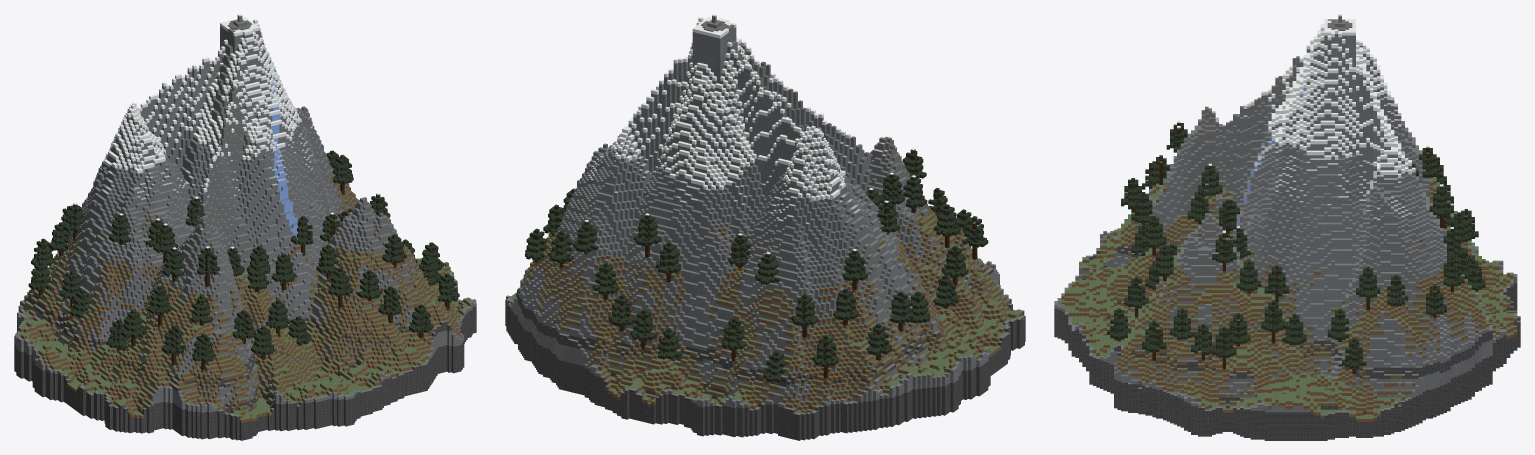
Rendered from shandian.glb.
The picture shows the model from 3 angles, left to right: view 1: azimuth 30°, elevation 25°; view 2: azimuth 150°, elevation 25°; view 3: azimuth 270°, elevation 25°; orthographic projection. The views are drawn at different scales.
Parts seen in each view (by area): view 1: 01 Mountain / Stone, 01 Mountain / Dirt, 01 Mountain / Andesite, 01 Mountain / Grass, 02 Alpine spruce / Spruce needles, 01 Mountain / Deep rock, 01 Mountain / Snow, 02 Alpine spruce / Spruce bark, 01 Mountain / Glacier, 01 Mountain / Pale granite, 01 Mountain / Worn trail; view 2: 01 Mountain / Stone, 01 Mountain / Andesite, 01 Mountain / Dirt, 01 Mountain / Deep rock, 02 Alpine spruce / Spruce needles, 01 Mountain / Grass, 01 Mountain / Snow, 02 Alpine spruce / Spruce bark, 01 Mountain / Pale granite; view 3: 01 Mountain / Stone, 01 Mountain / Andesite, 01 Mountain / Dirt, 01 Mountain / Grass, 02 Alpine spruce / Spruce needles, 01 Mountain / Deep rock, 01 Mountain / Snow, 02 Alpine spruce / Spruce bark, 01 Mountain / Pale granite.
Part boxes in pixels (x1=…): 01 Mountain / Stone: x1=14, y1=28, x2=476, y2=412; 01 Mountain / Dirt: x1=19, y1=167, x2=468, y2=423; 01 Mountain / Andesite: x1=16, y1=26, x2=476, y2=416; 01 Mountain / Grass: x1=17, y1=167, x2=471, y2=420; 02 Alpine spruce / Spruce needles: x1=28, y1=150, x2=459, y2=362; 01 Mountain / Deep rock: x1=14, y1=284, x2=476, y2=440; 01 Mountain / Snow: x1=103, y1=17, x2=301, y2=192; 02 Alpine spruce / Spruce bark: x1=38, y1=159, x2=449, y2=370; 01 Mountain / Glacier: x1=270, y1=77, x2=298, y2=237; 01 Mountain / Pale granite: x1=102, y1=101, x2=315, y2=229; 01 Mountain / Worn trail: x1=175, y1=29, x2=246, y2=374; 01 Mountain / Stone: x1=506, y1=25, x2=1024, y2=414; 01 Mountain / Andesite: x1=506, y1=32, x2=1014, y2=406; 01 Mountain / Dirt: x1=510, y1=204, x2=1022, y2=413; 01 Mountain / Deep rock: x1=505, y1=264, x2=1025, y2=440; 02 Alpine spruce / Spruce needles: x1=525, y1=149, x2=988, y2=382; 01 Mountain / Grass: x1=509, y1=203, x2=1021, y2=413; 01 Mountain / Snow: x1=611, y1=17, x2=850, y2=200; 02 Alpine spruce / Spruce bark: x1=534, y1=158, x2=977, y2=378; 01 Mountain / Pale granite: x1=588, y1=142, x2=896, y2=224; 01 Mountain / Stone: x1=1054, y1=35, x2=1517, y2=415; 01 Mountain / Andesite: x1=1054, y1=34, x2=1520, y2=412; 01 Mountain / Dirt: x1=1061, y1=177, x2=1517, y2=421; 01 Mountain / Grass: x1=1057, y1=177, x2=1517, y2=418; 02 Alpine spruce / Spruce needles: x1=1107, y1=123, x2=1485, y2=368; 01 Mountain / Deep rock: x1=1054, y1=244, x2=1520, y2=440; 01 Mountain / Snow: x1=1243, y1=19, x2=1415, y2=178; 02 Alpine spruce / Spruce bark: x1=1117, y1=129, x2=1474, y2=373; 01 Mountain / Pale granite: x1=1212, y1=96, x2=1411, y2=220.
Size of the model in its own units: 143 by 104 by 133.
Materials: 14 (14 with a texture image).
